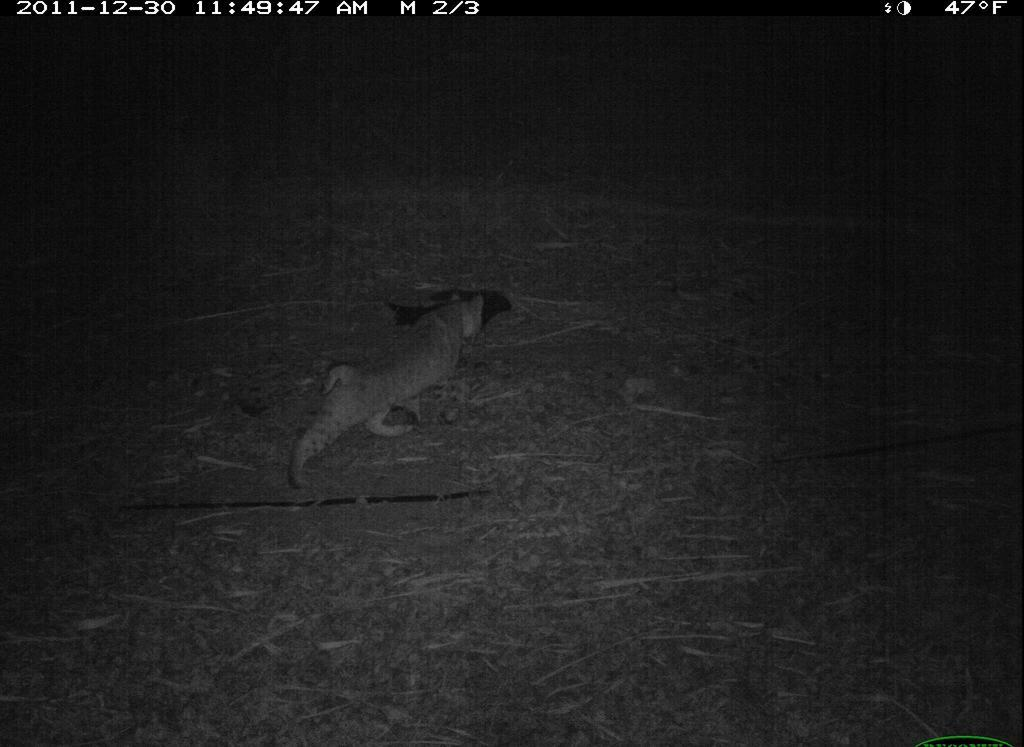bobcat: (289, 283, 495, 498)
